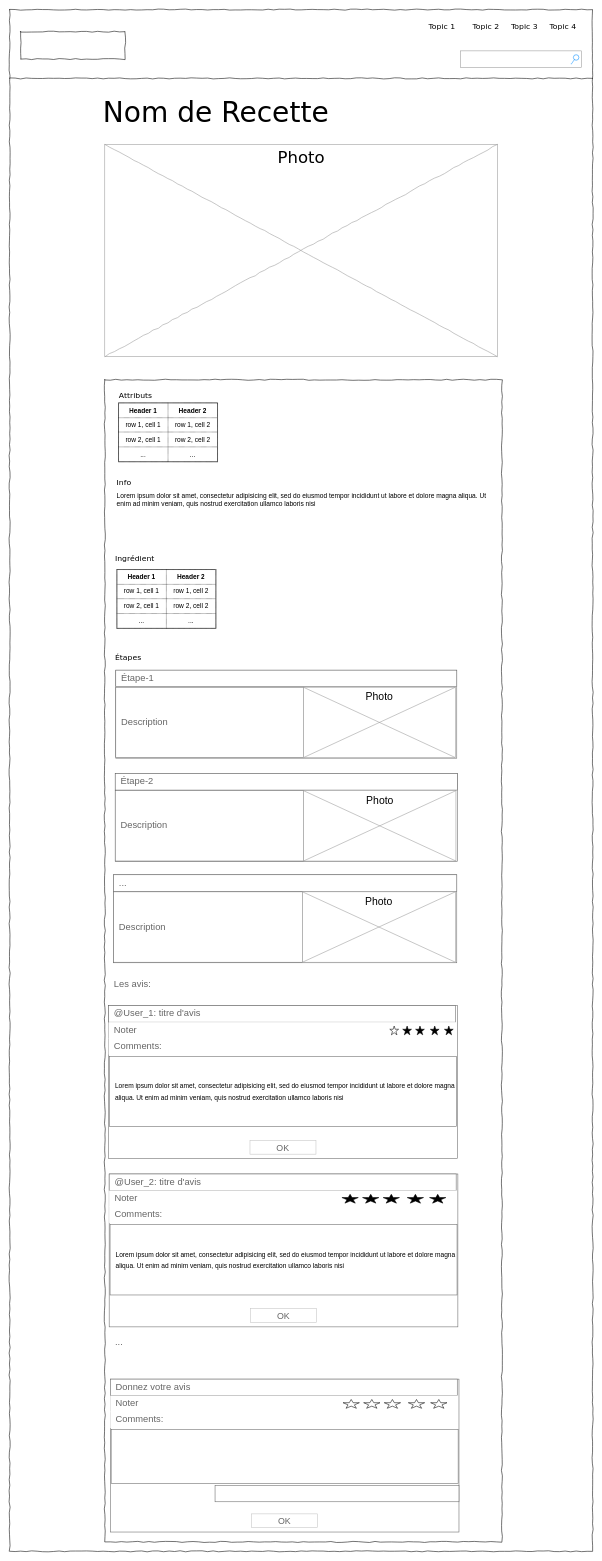
This 602x1561 diagram has some shape labels left out. The centre of each missing label's shape, as x and y in pixels:
LOGO: the point at 72,45
Search: the point at 521,58
Your name:: the point at 155,1493
